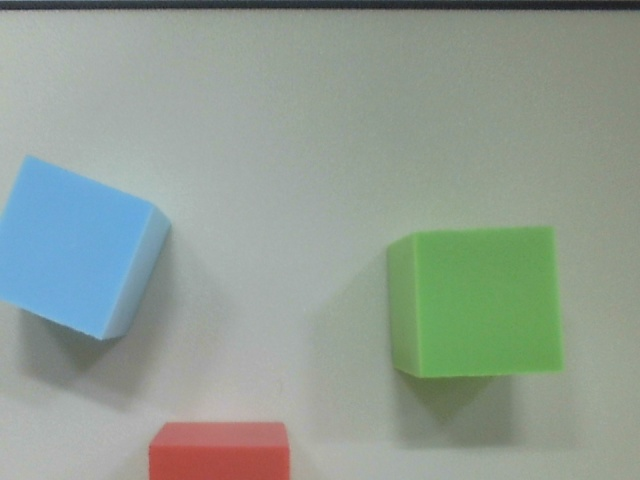greencube: (375, 221, 583, 393)
